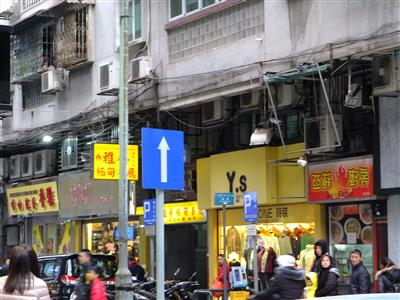oneway: (136, 120, 190, 195)
